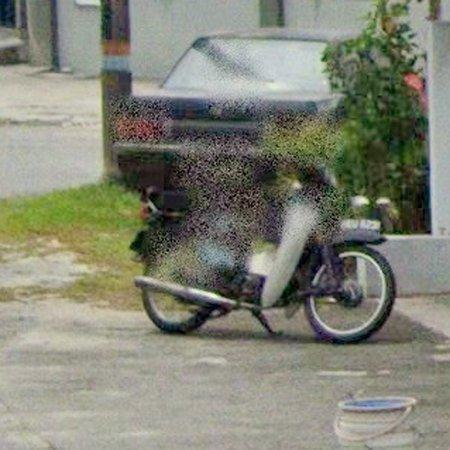motorcycles: (115, 101, 397, 343)
